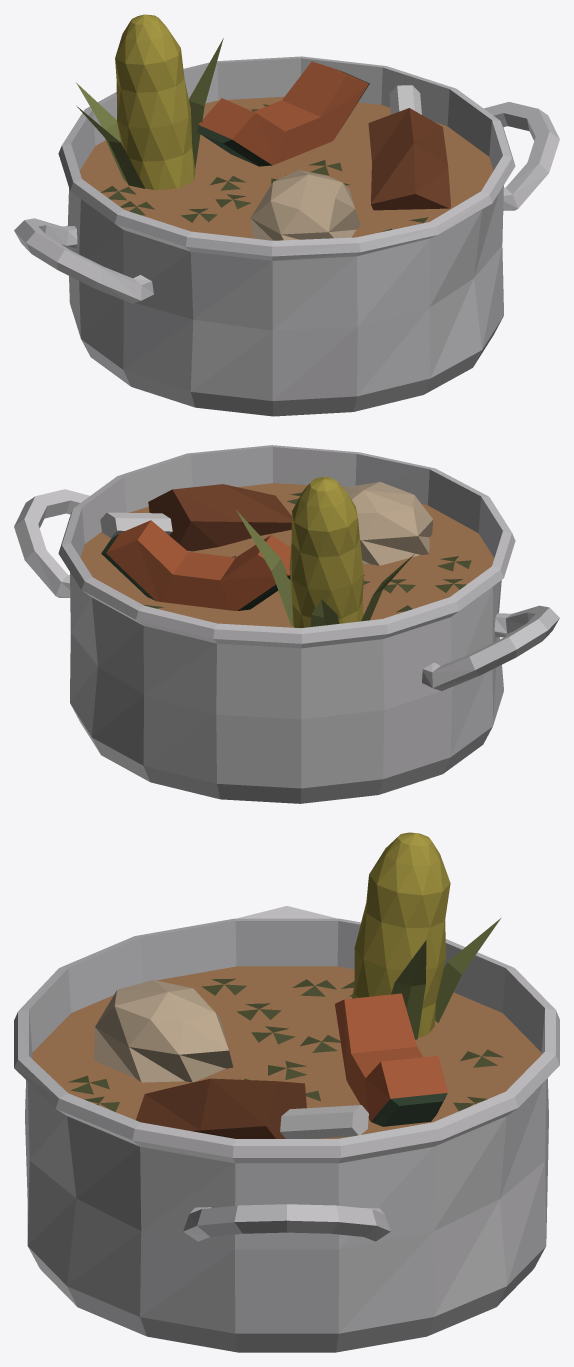
Rendered from cazuela-pot-79f0ee.glb.
3 views of the same model, one above another, from view 1: azimuth 30°, elevation 25°; view 2: azimuth 150°, elevation 25°; view 3: azimuth 270°, elevation 25° (orthographic). The views are drawn at different scales.
Parts seen in each view (by area): view 1: pot-and-soup, cob; view 2: pot-and-soup, cob; view 3: pot-and-soup, cob.
Part boxes in pixels (x1=…): pot-and-soup: x1=14, y1=56, x2=559, y2=416; cob: x1=76, y1=14, x2=223, y2=190; pot-and-soup: x1=14, y1=445, x2=559, y2=803; cob: x1=236, y1=476, x2=415, y2=627; pot-and-soup: x1=14, y1=906, x2=559, y2=1352; cob: x1=352, y1=832, x2=500, y2=1039.
Size of the model in its own units: 0.5268 by 0.2939 by 0.3923.
